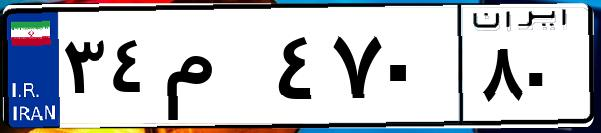0: (385, 28, 445, 110), (525, 38, 570, 115)
3: (57, 26, 110, 100)
4: (270, 28, 330, 110), (110, 28, 158, 98)
7: (330, 28, 385, 110)
8: (475, 38, 525, 113)
م: (158, 20, 270, 120)
